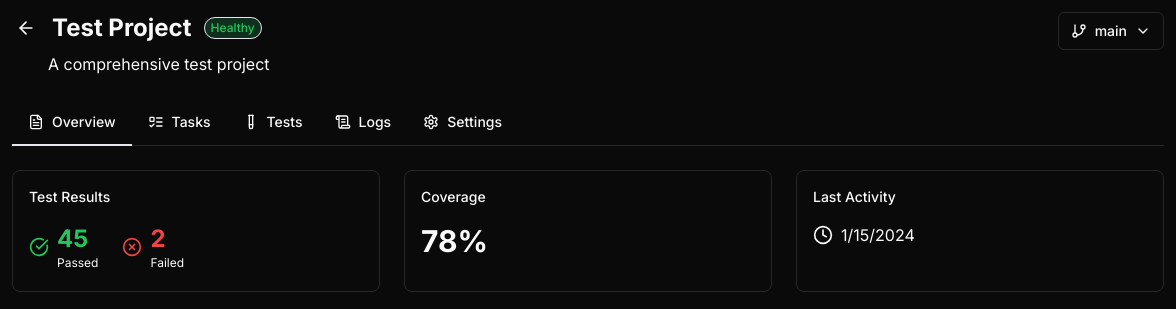
Scenario: ProjectDetail › switches to tasks tab
Click the tab "Tasks" at (179, 123), box x1=132 y1=100 x2=226 y2=146
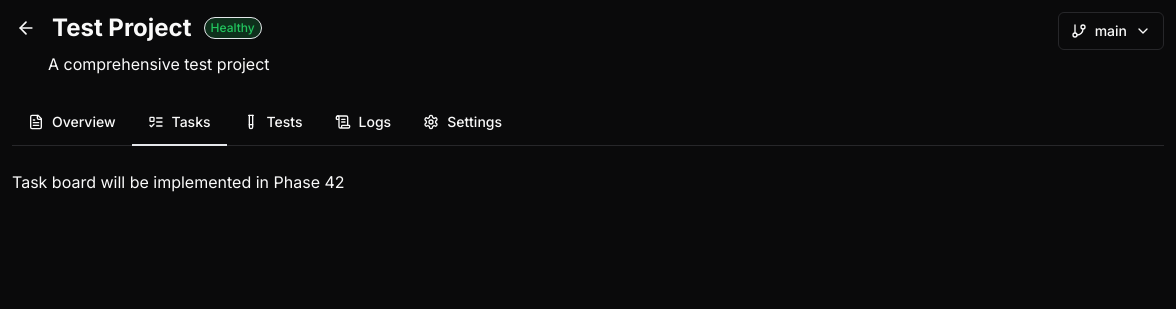
Now the panel with test id "tasks-panel" is shown, box x1=12 y1=172 x2=344 y2=192
